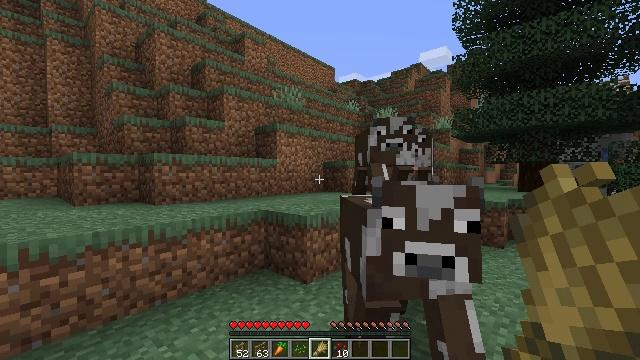cow: (341, 180, 485, 360), (351, 116, 415, 196), (391, 128, 429, 182)
